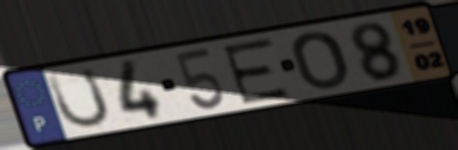4: (115, 57, 166, 123)
5: (172, 46, 226, 111)
8: (345, 19, 405, 83)
E: (219, 35, 293, 106)
O: (289, 29, 352, 92)
U: (44, 65, 113, 131)
